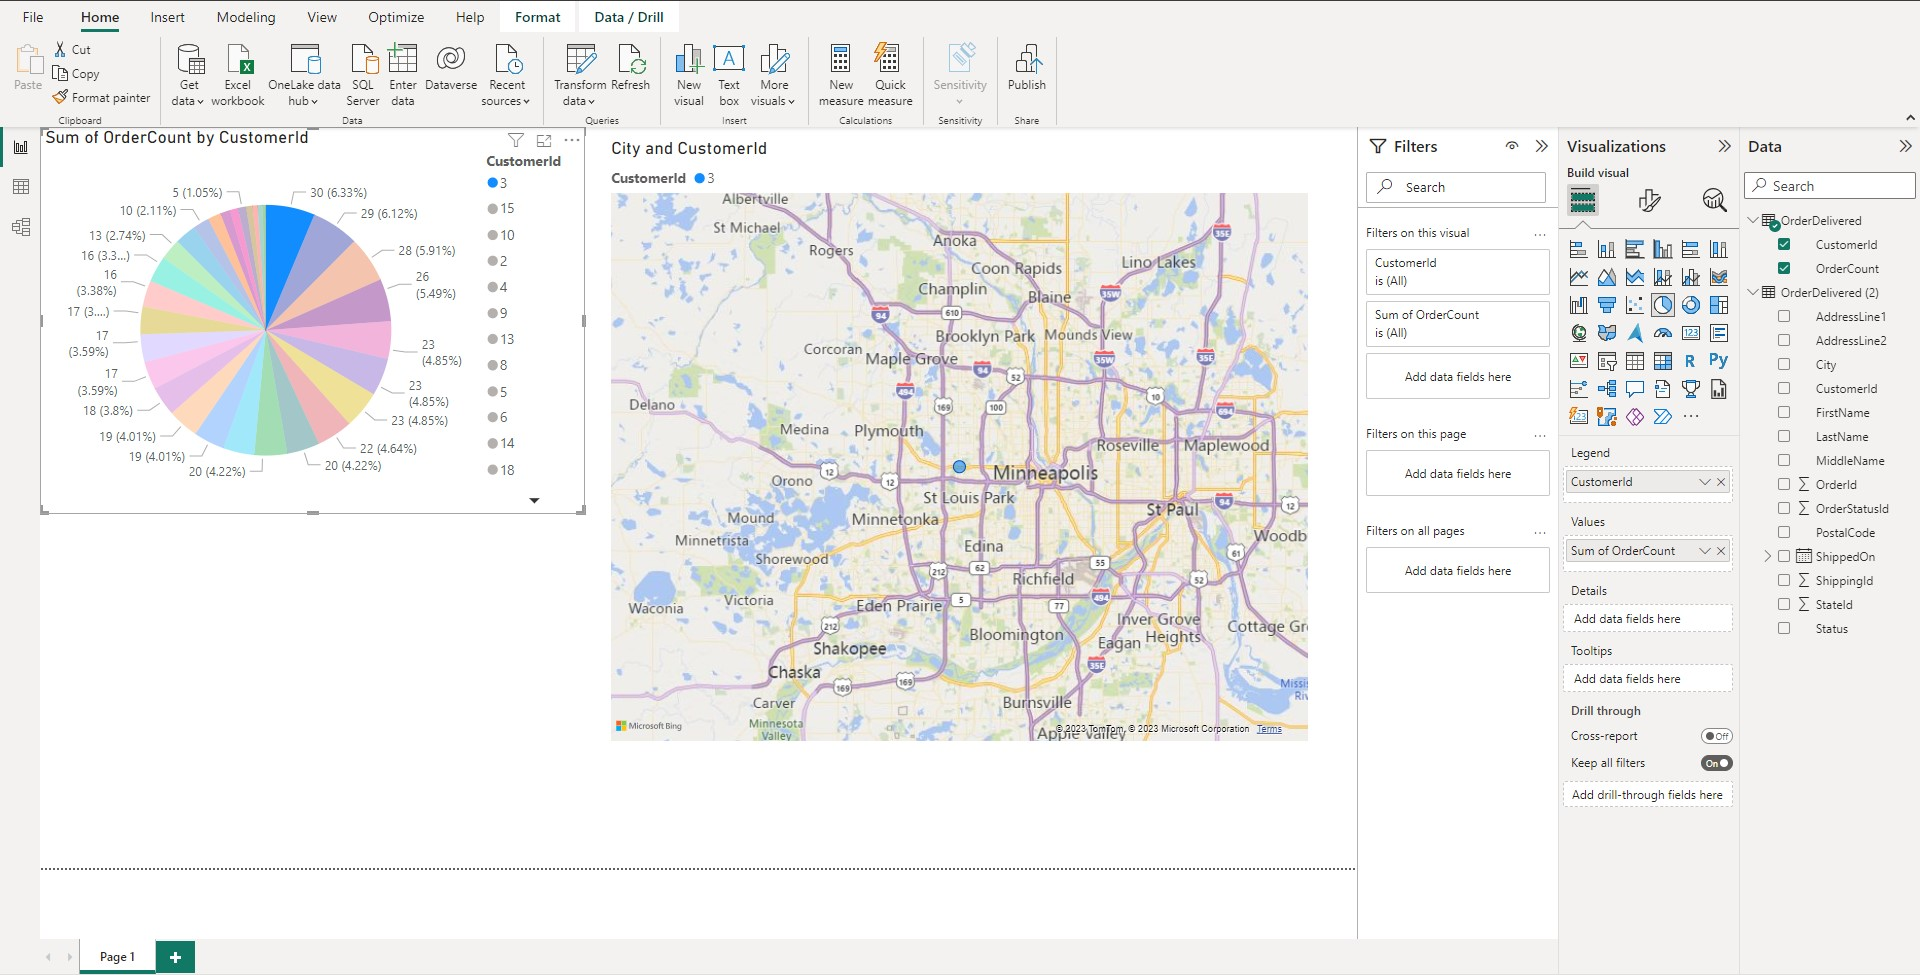

What the dashboard file says about the page in this screenshot:
{"tool":"powerbi","page":{"name":"Page 1","canvas":[1280,720],"ordinal":0},"visuals":[{"type":"pieChart","fields":{"Category":["OrderDelivered.CustomerId"],"Y":["Sum(OrderDelivered.OrderCount)"]},"box":[0,0,529.7,376.1],"z":0},{"type":"map","fields":{"Category":["OrderDelivered (2).City"],"Series":["OrderDelivered.CustomerId"]},"box":[550.1,10.7,687.1,590.9],"z":1}]}

Visuals, with their boxes on the page's 1280x720 design canvas (x1, y1, x2, y2). These are canvas units, not pixel positions in the 1920x975 screenshot, which may show the page scaled, cropped or inside an application window:
pieChart - OrderDelivered.CustomerId x Sum(OrderDelivered.OrderCount): region(0, 0, 530, 376)
map - OrderDelivered (2).City x OrderDelivered.CustomerId: region(550, 11, 1237, 602)
